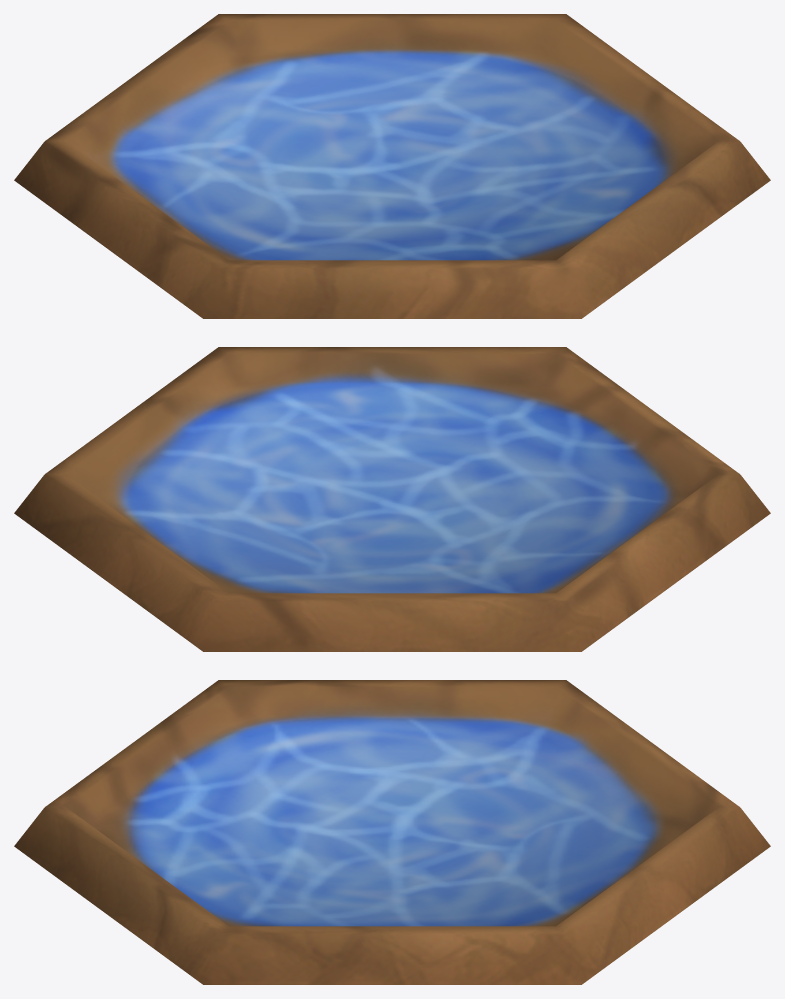
The model's file is desert_oasis.FBX.
3 renders of one model, top to bottom at view 1: azimuth 30°, elevation 25°; view 2: azimuth 150°, elevation 25°; view 3: azimuth 270°, elevation 25°, orthographic.
Visible parts, largest first — view 1: Cylinder004; view 2: Cylinder004; view 3: Cylinder004.
Part boxes in pixels (x1=…): Cylinder004: x1=14, y1=14, x2=770, y2=318; Cylinder004: x1=14, y1=347, x2=770, y2=651; Cylinder004: x1=14, y1=680, x2=770, y2=984.
Bounding box in the file's own units: 64.96 × 75.01 × 4.33.
